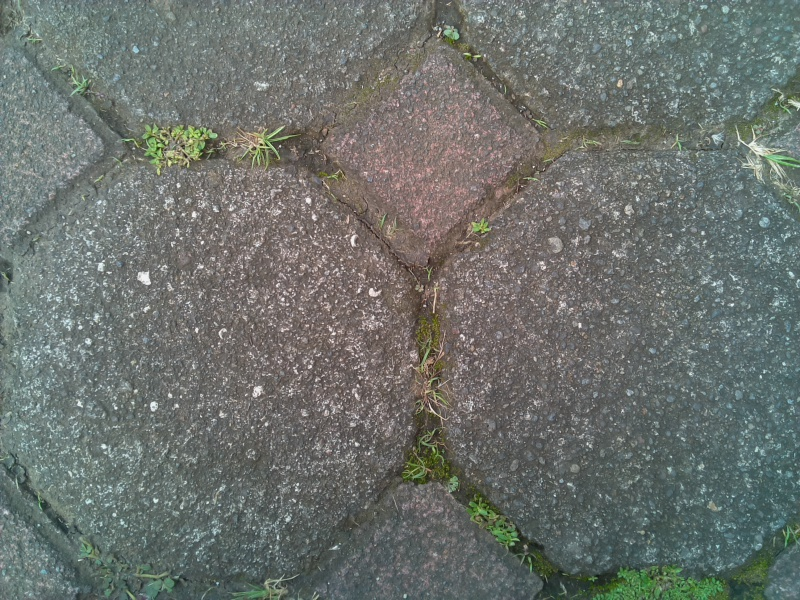Weed: (584, 563, 720, 600), (457, 487, 528, 554), (134, 121, 222, 171), (731, 128, 800, 190), (407, 342, 452, 423), (229, 122, 296, 173), (401, 430, 444, 482), (226, 577, 297, 600), (462, 215, 495, 244), (68, 72, 96, 99), (668, 130, 692, 158), (439, 22, 466, 44)
